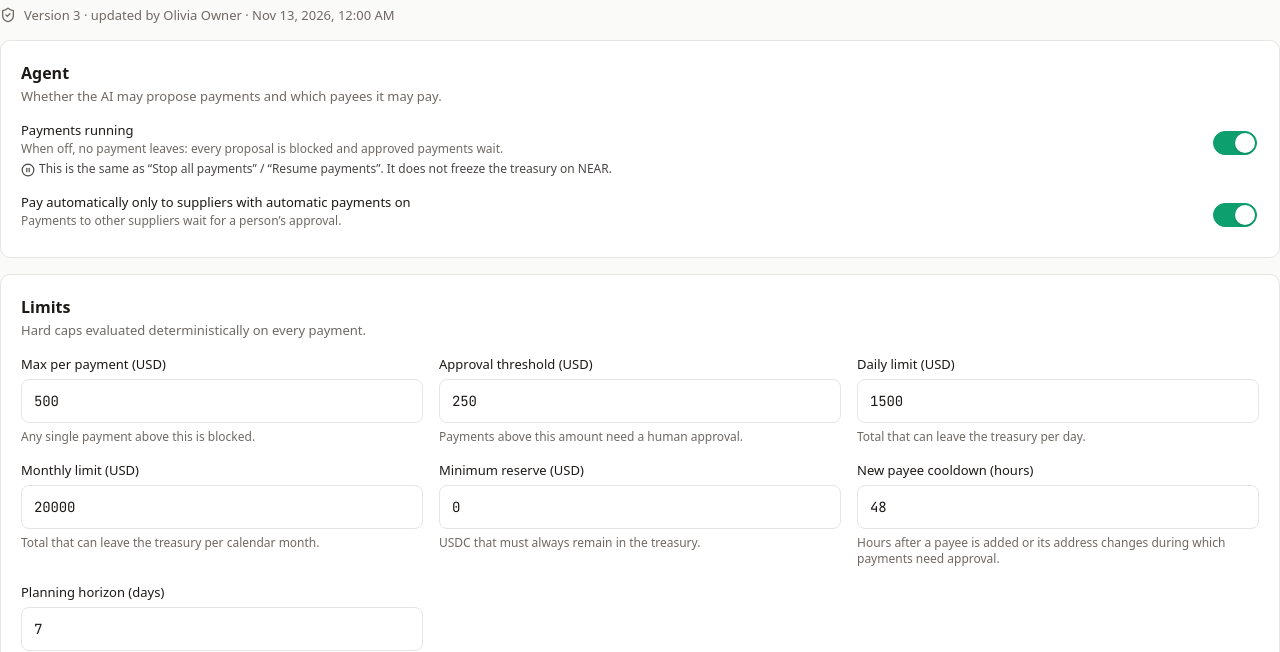
Test case: policies › client-side errors also toast and focus the field
Clear the field labelled "Max per payment (USD)". click: (222, 401)
box: [21,379,423,423]
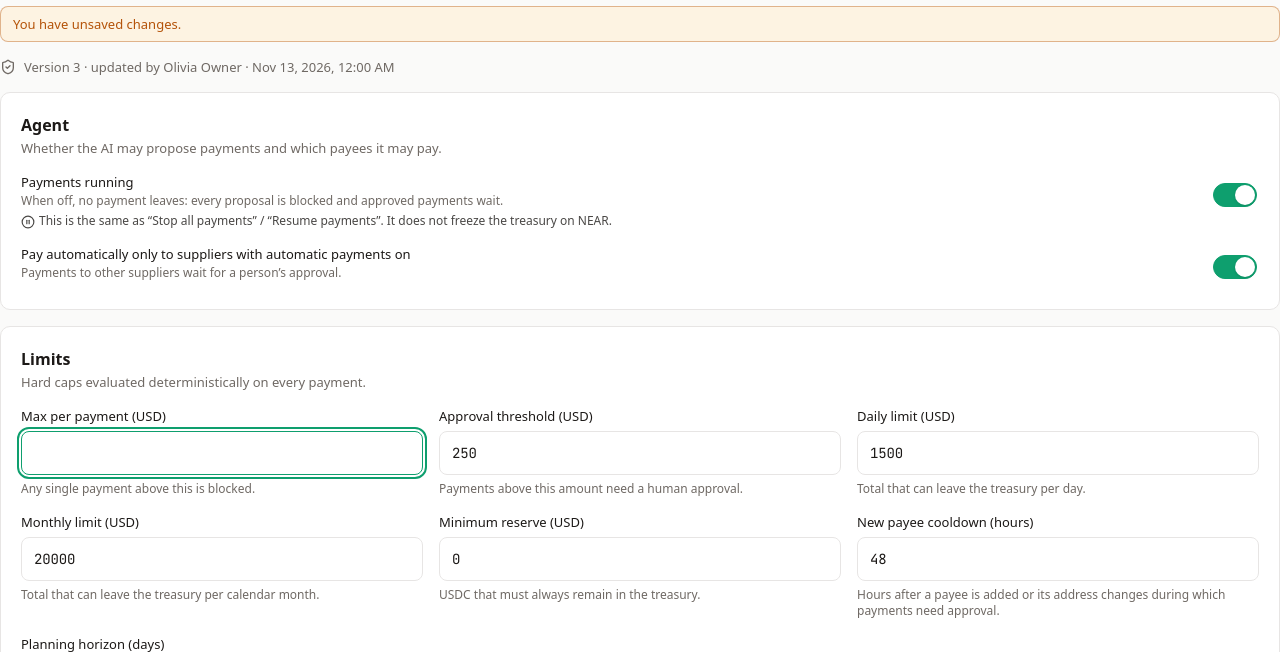
Type "abc" into the field labelled "Max per payment (USD)". click: (222, 453)
box: [21,431,423,475]
(page scrolled)
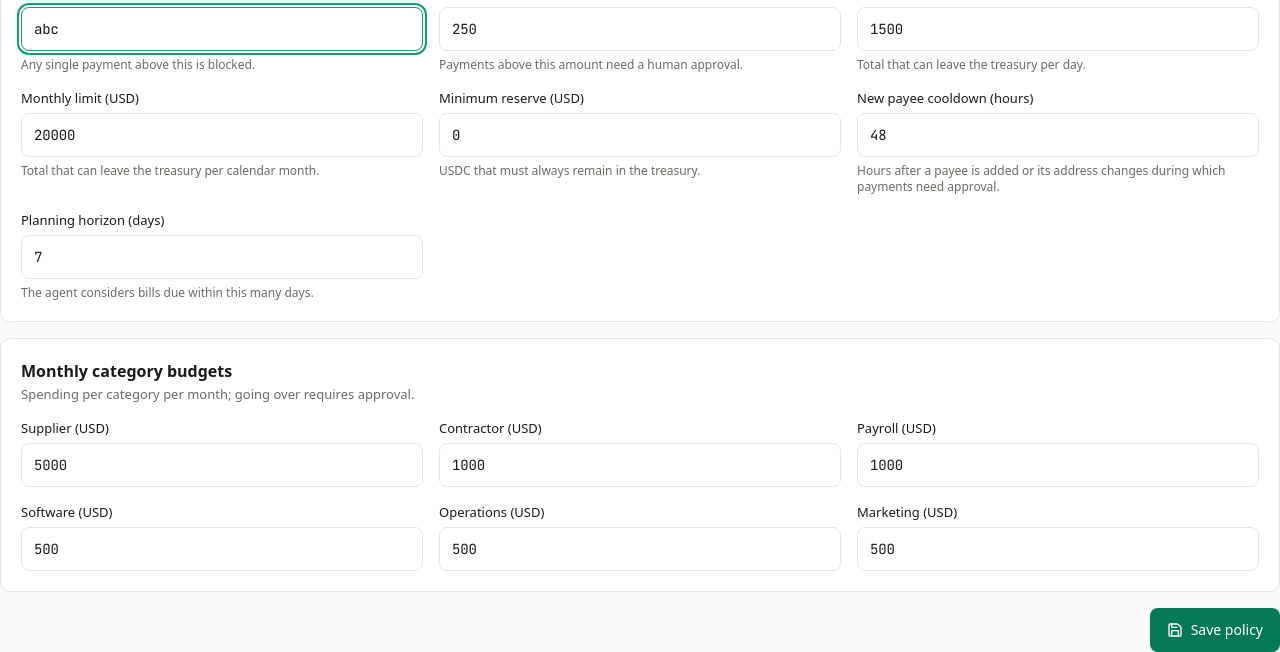
Click the button with test id "policy-save". click: (1215, 630)
box: [1150,608,1279,651]
(page scrolled)
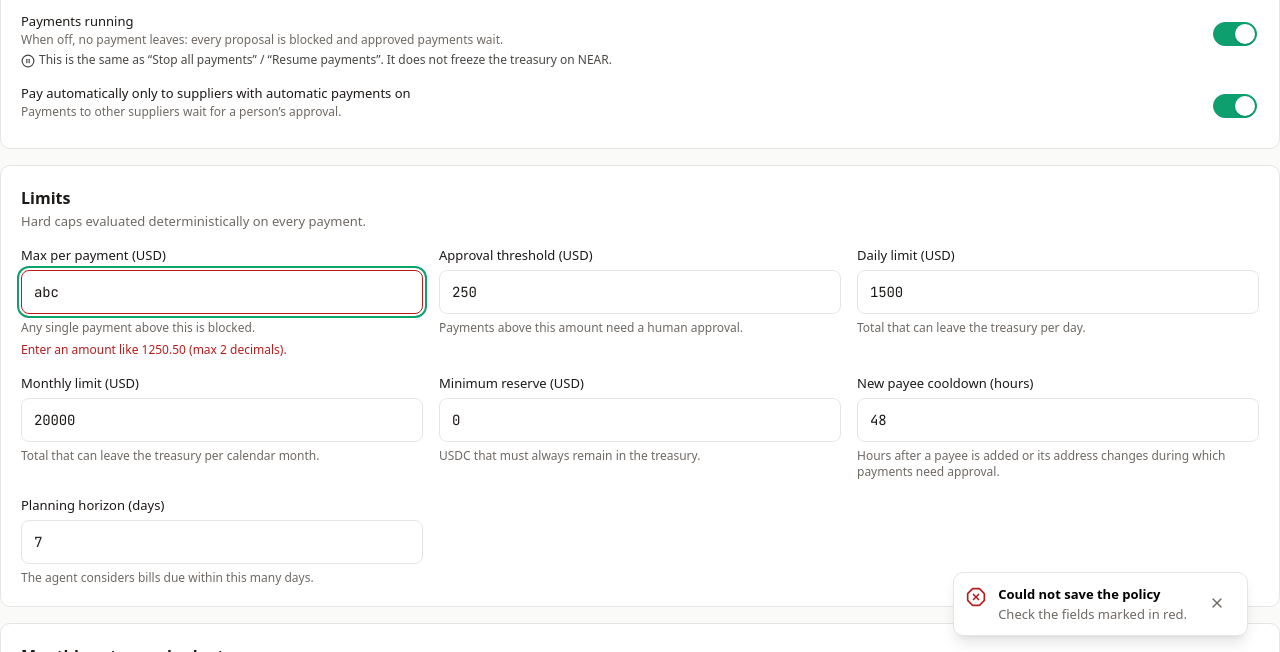
Result: the text "Check the fields marked in red." is shown at [998,605,1187,623]
